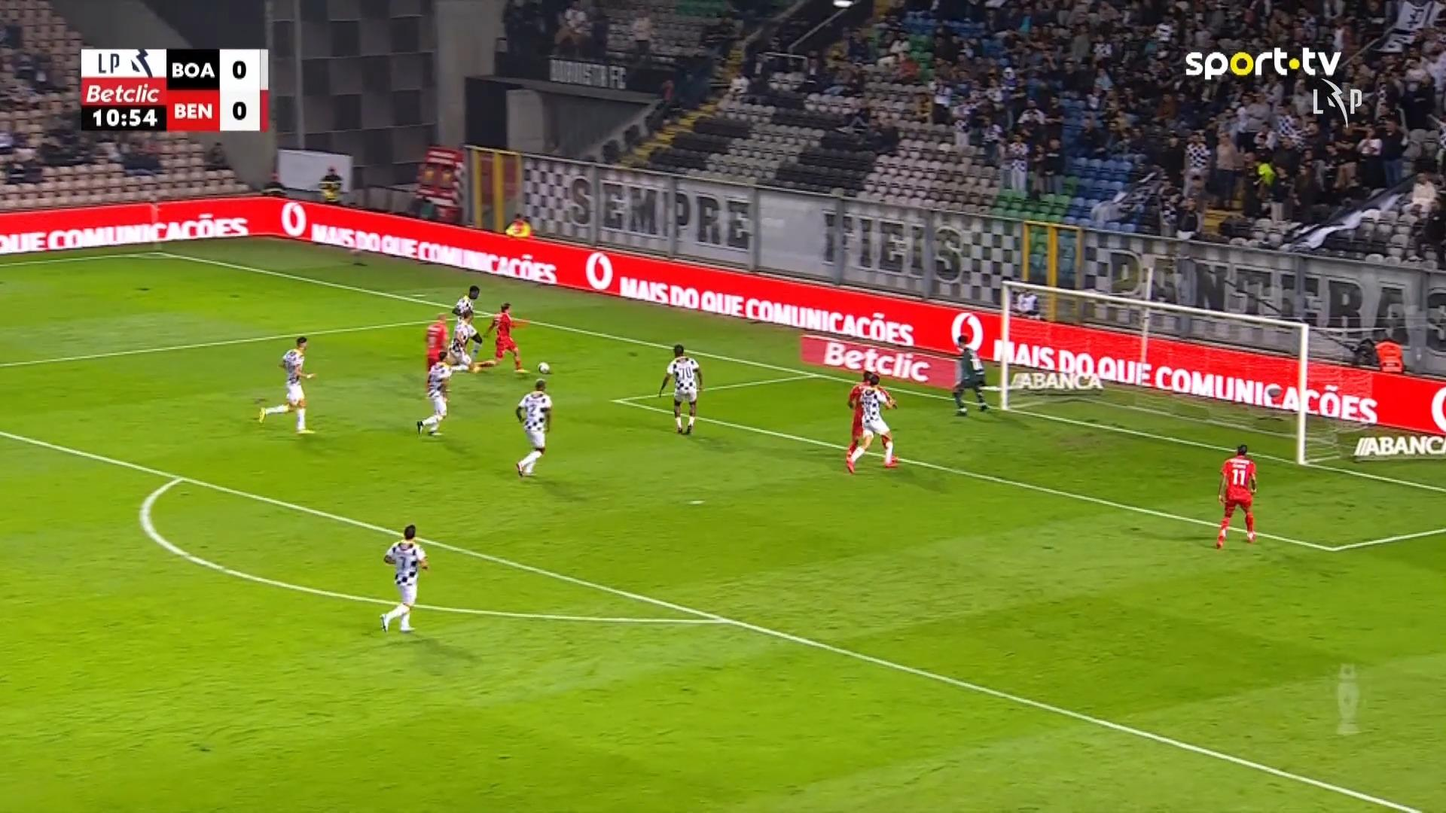ball: (538, 361, 550, 373)
goalkeeper: (950, 333, 990, 416)
player: (255, 334, 316, 434), (378, 523, 429, 633), (844, 370, 895, 473), (847, 374, 898, 468), (1214, 443, 1258, 549), (657, 343, 702, 434), (514, 378, 552, 477), (415, 349, 453, 436), (483, 301, 528, 373), (445, 310, 483, 373), (423, 312, 450, 375), (451, 284, 480, 321)
